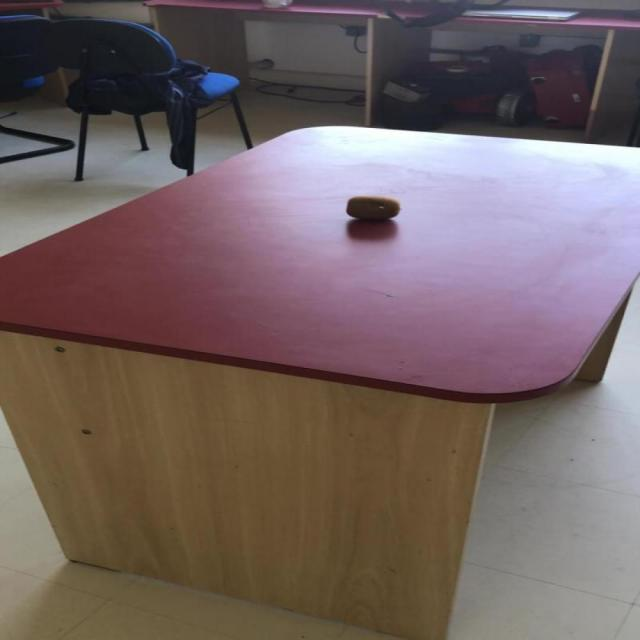Kiwi: (344, 194, 400, 220)
